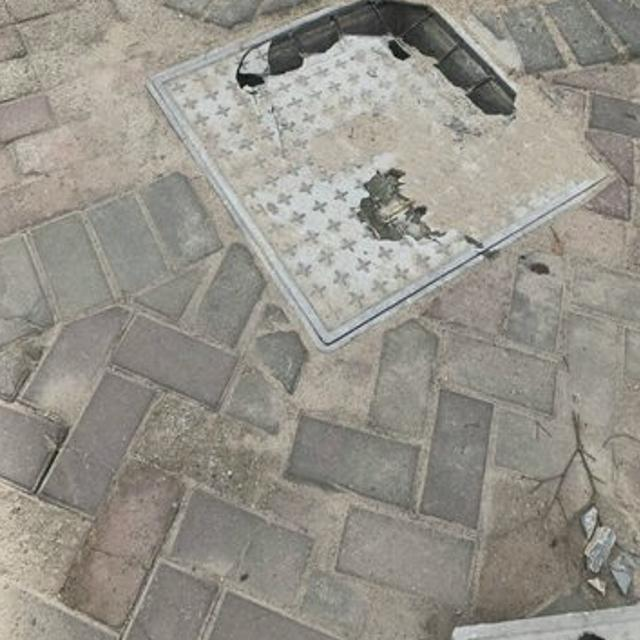broke: (137, 0, 602, 368)
